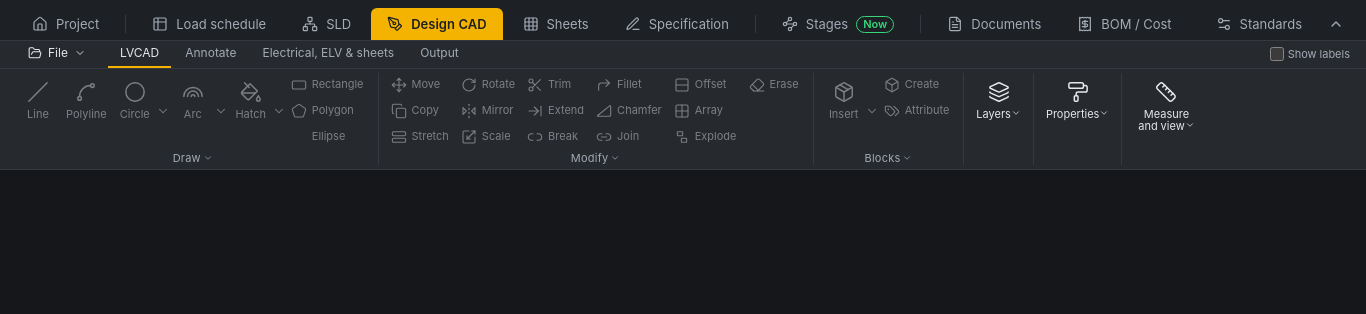
Design CAD ribbon: File › holds New, Open, Close, Save, Save As, Export and Publish; greyed with no drawing but New, Open and Publish
Click the button "File".
click(57, 54)  # box [16,41,98,68]
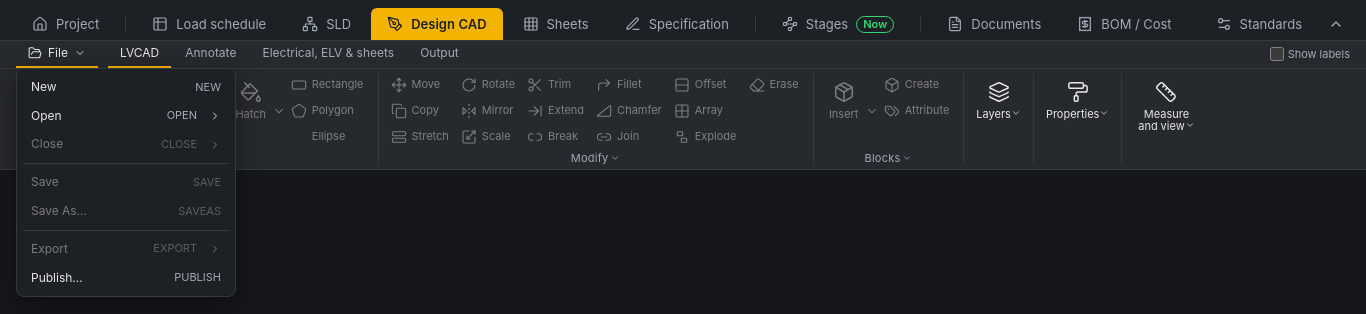
Check: the menu item "New NEW" is enabled
Check: the menu item "Open OPEN" is enabled, box [21,102,231,130]
Check: the menu item "Close CLOSE" is disabled, box [21,130,231,159]
Click the menu item "New NEW".
click(126, 87)  # box [21,73,231,102]
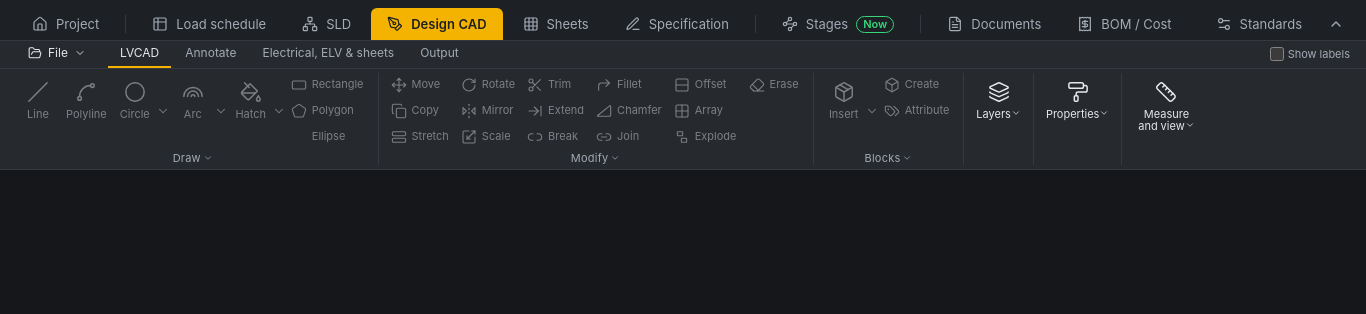
Check: the menu item named "File" is gone
